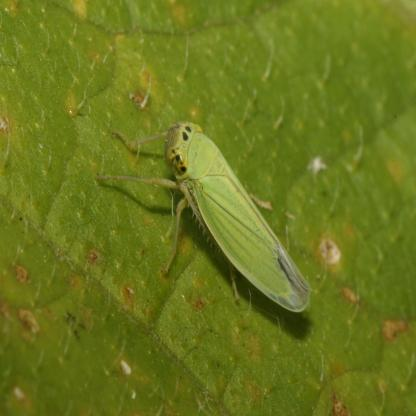Green-Leafhopper: (98, 110, 316, 337)
